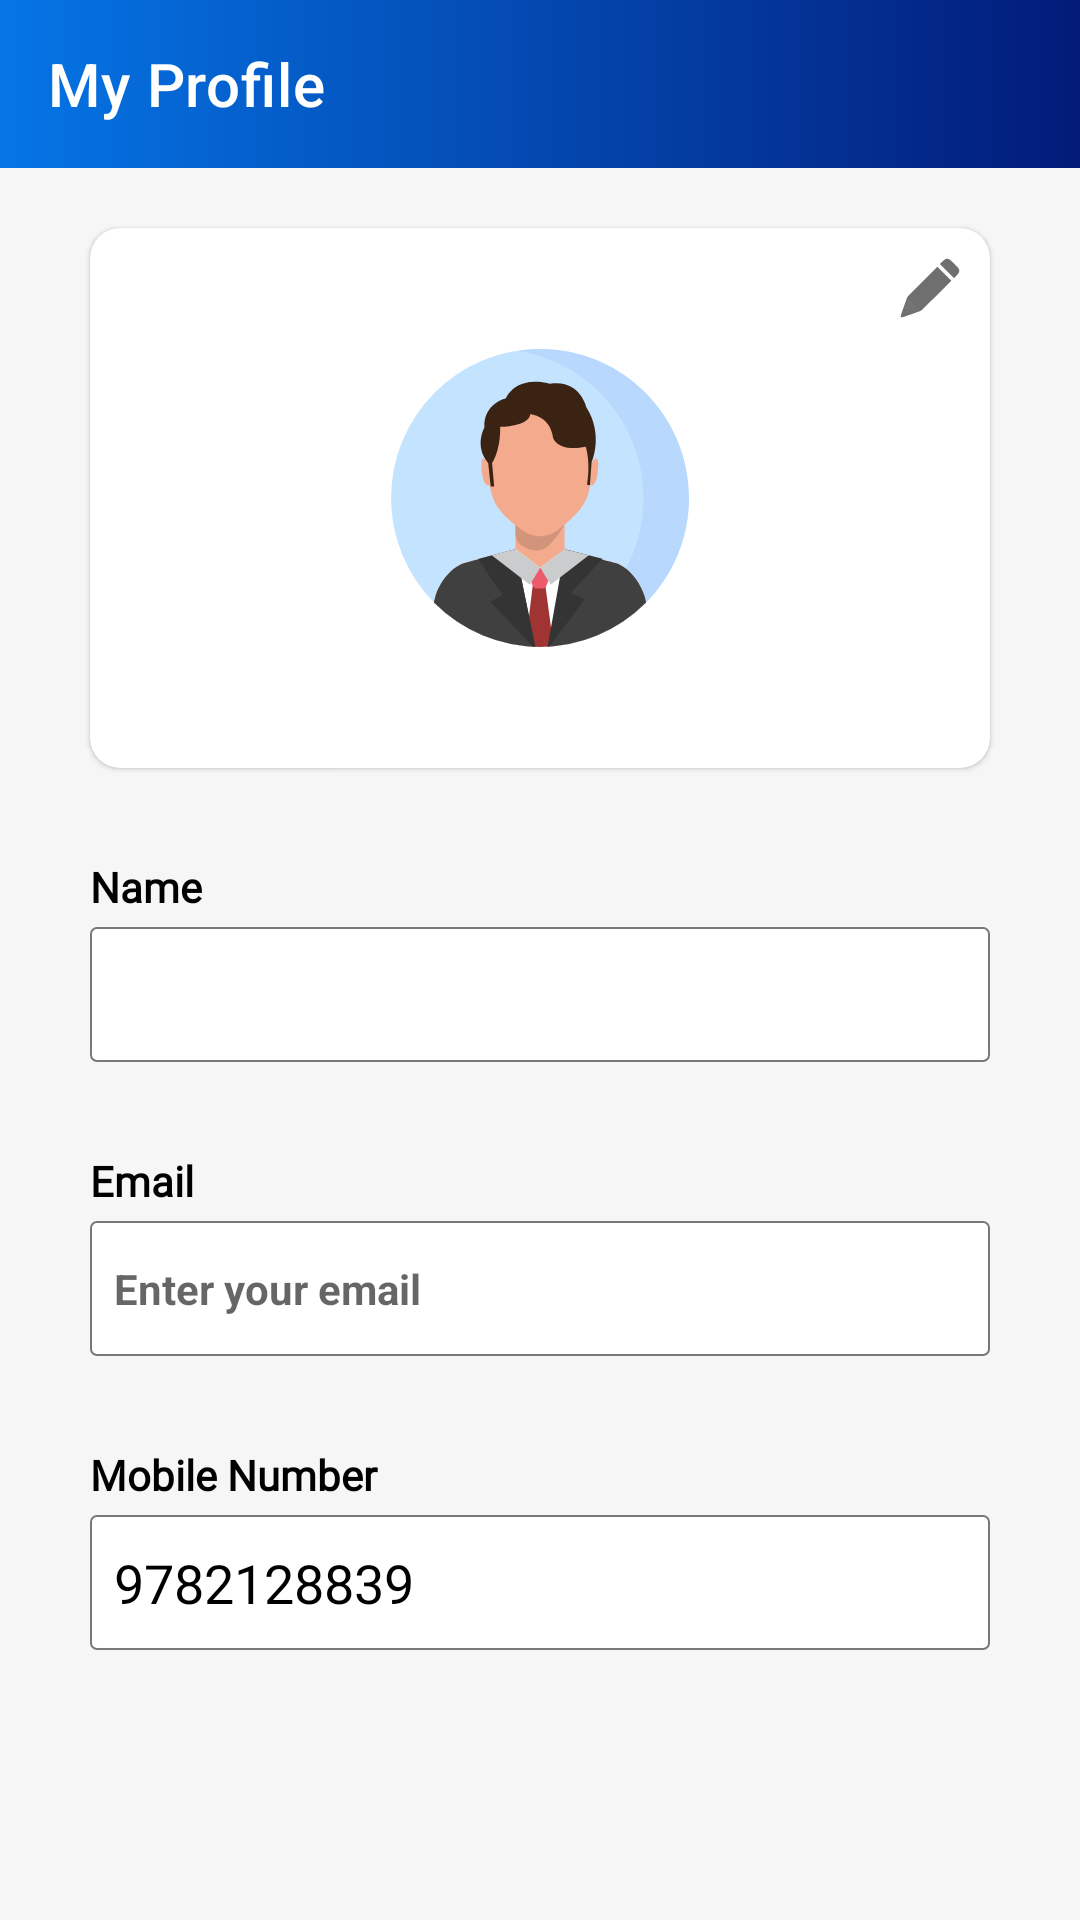

Icon bounding boxes for this 1080*1920 phone screenshot, format (x1, y1, x2, y2):
pencil: (900, 258, 960, 318)
profile: (391, 349, 689, 647)
